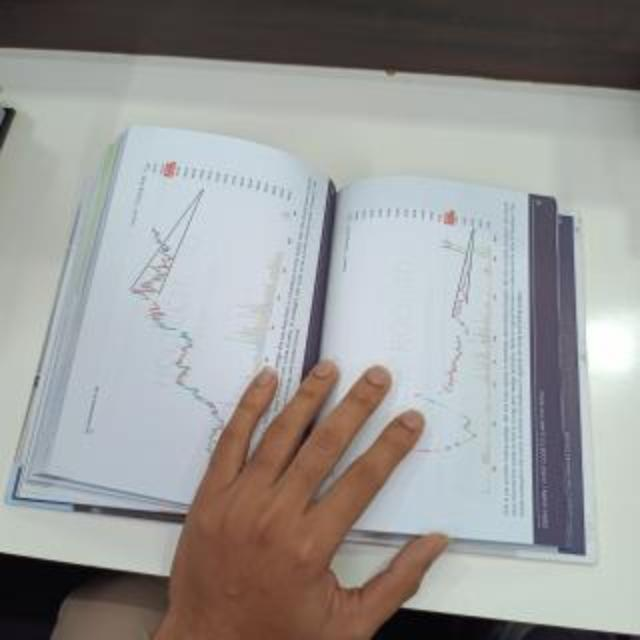book: (24, 106, 602, 566)
